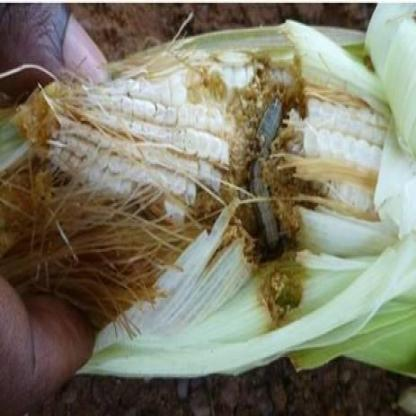armyworm: (247, 92, 292, 254)
